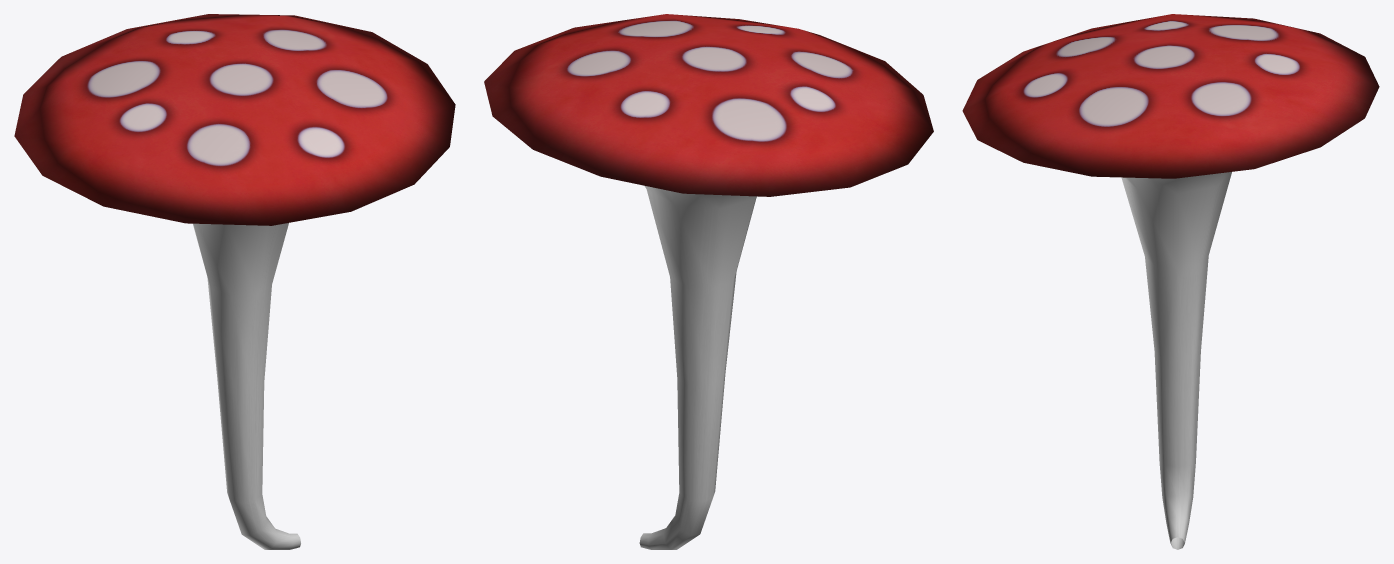
The model's file is Mushroom_Curved3_Red.fbx.
The picture shows the model from 3 angles, left to right: view 1: azimuth 30°, elevation 25°; view 2: azimuth 150°, elevation 25°; view 3: azimuth 270°, elevation 25°; orthographic projection. The views are drawn at different scales.
Parts seen in each view (by area): view 1: Mesh; view 2: Mesh; view 3: Mesh.
Boxes of the visible parts, x1=… form: Mesh: x1=14, y1=14, x2=455, y2=549; Mesh: x1=484, y1=14, x2=933, y2=549; Mesh: x1=962, y1=14, x2=1379, y2=549.
Size of the model in its own units: 120 by 146 by 118.
